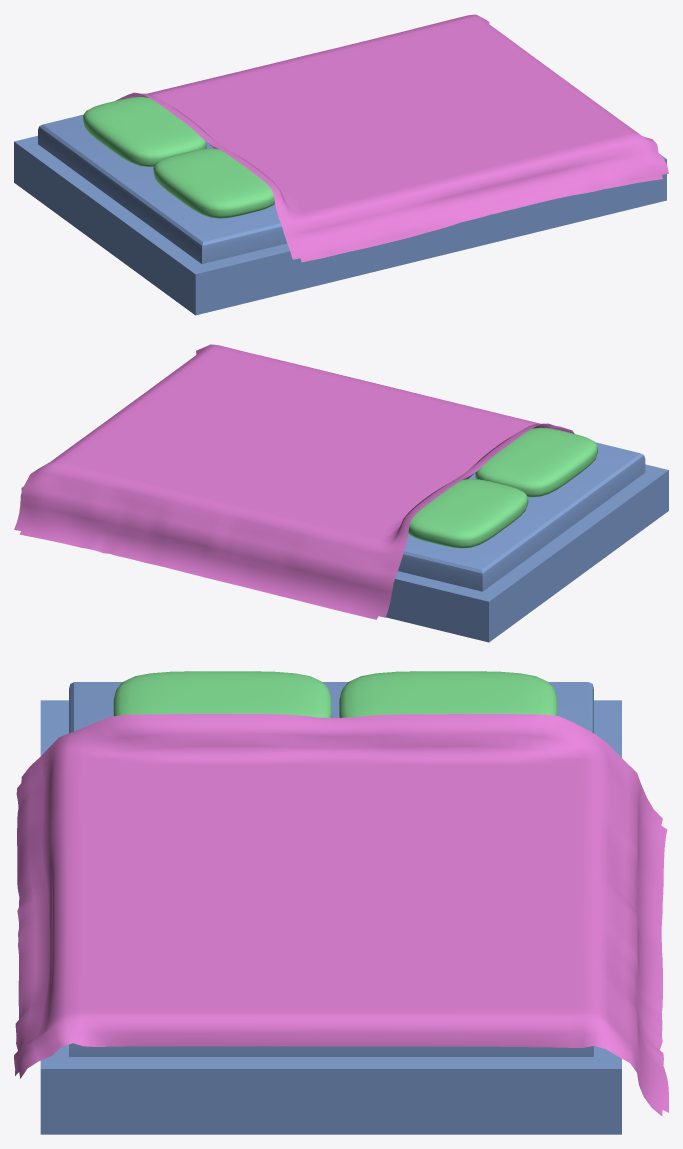
The model's file is Bed.FBX.
The picture shows the model from 3 angles, top to bottom: view 1: azimuth 30°, elevation 25°; view 2: azimuth 150°, elevation 25°; view 3: azimuth 270°, elevation 25°; orthographic projection. The views are drawn at different scales.
Visible parts, largest first — view 1: Object, Box001, Box004; view 2: Object, Box001, Box004; view 3: Object, Box001, Box004.
Boxes of the visible parts, x1=… form: Object: x1=115, y1=14, x2=668, y2=262; Box001: x1=14, y1=114, x2=666, y2=315; Box004: x1=83, y1=97, x2=274, y2=218; Object: x1=14, y1=344, x2=574, y2=619; Box001: x1=21, y1=442, x2=668, y2=642; Box004: x1=408, y1=427, x2=597, y2=548; Object: x1=14, y1=714, x2=668, y2=1116; Box001: x1=40, y1=682, x2=621, y2=1134; Box004: x1=113, y1=671, x2=557, y2=717.
Size of the model in its own units: 236 by 39.89 by 177.
